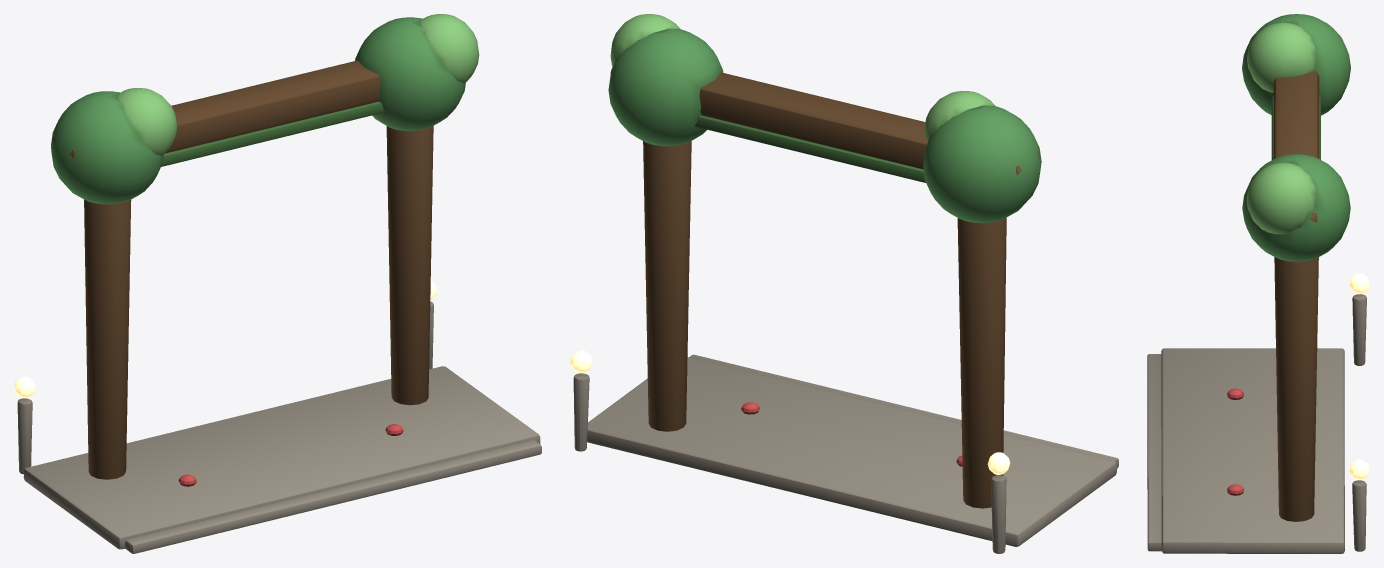
3 renders of one model, left to right at view 1: azimuth 30°, elevation 25°; view 2: azimuth 150°, elevation 25°; view 3: azimuth 270°, elevation 25°, orthographic. The views are drawn at different scales.
Visible parts, largest first — view 1: gate_32d7afb6; view 2: gate_32d7afb6; view 3: gate_32d7afb6.
Boxes of the visible parts, bbox=[...] form: gate_32d7afb6: bbox=[14, 14, 541, 553]; gate_32d7afb6: bbox=[570, 14, 1118, 553]; gate_32d7afb6: bbox=[1147, 14, 1369, 553].
Size of the model in its own units: 5.3 by 4.72 by 2.54.
